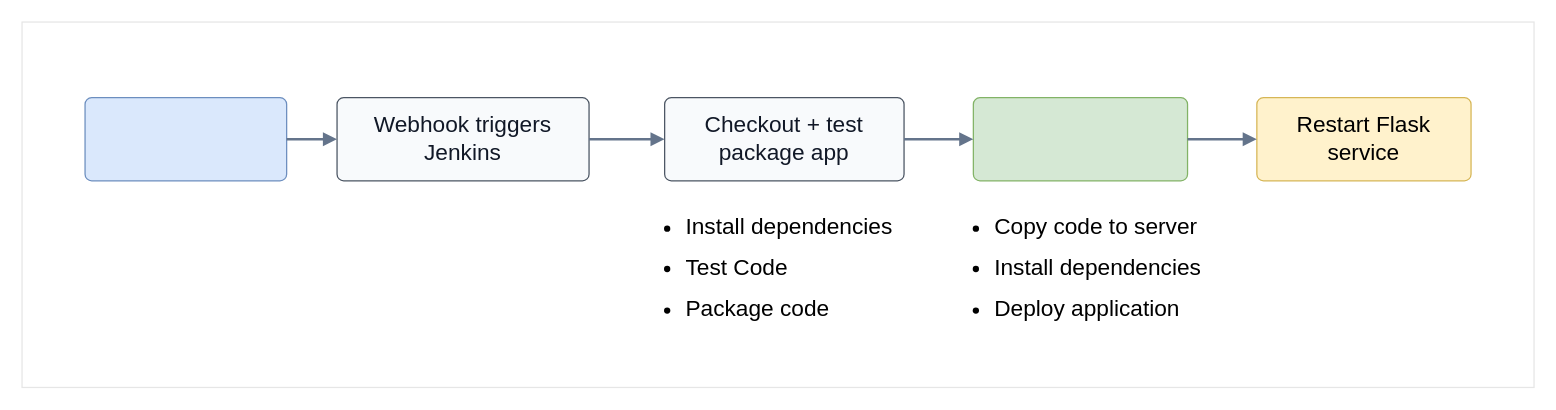
The diagram is 1556 pixels wide and 410 high, and some of its shapes have lost their labels. The shapes that lost their labels are listed below. From the top down, each one's box as (x1, y1, x2, y2) in pixels, then its label:
(84, 96, 287, 181): GitHub push
(972, 96, 1188, 181): Deploy to prod server
